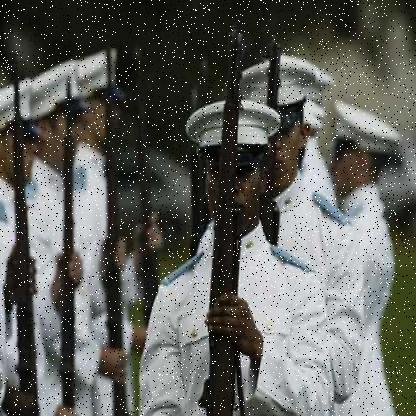rifle: (184, 24, 253, 415)
